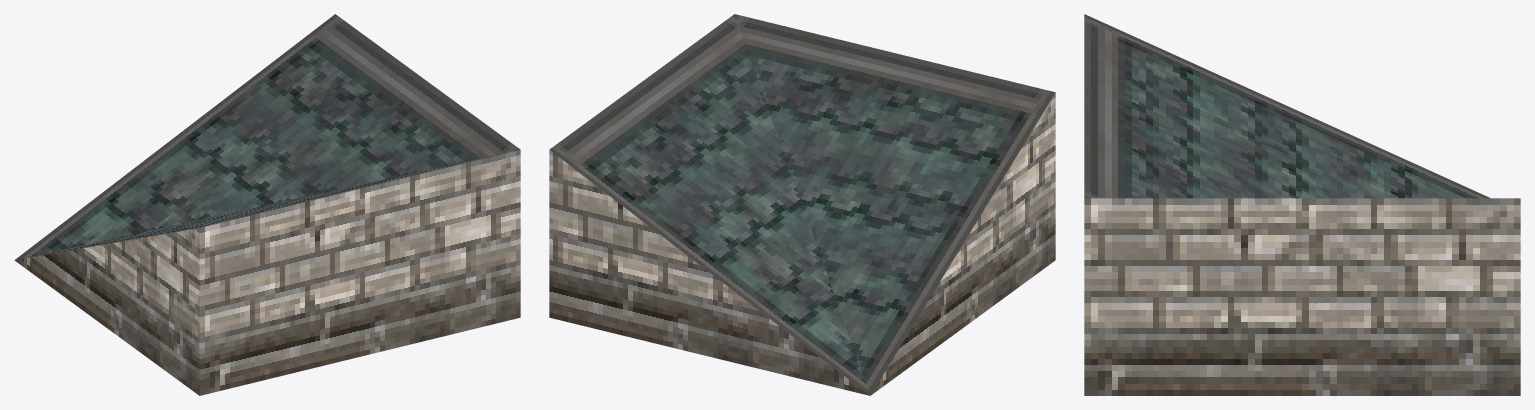
Rendered from roof-side-corner-inner_lev3.glb.
3 renders of one model, left to right at view 1: azimuth 30°, elevation 25°; view 2: azimuth 150°, elevation 25°; view 3: azimuth 270°, elevation 25°, orthographic. The views are drawn at different scales.
Parts seen in each view (by area): view 1: roof-side-corner-inner_lev3; view 2: roof-side-corner-inner_lev3; view 3: roof-side-corner-inner_lev3.
Boxes of the visible parts, <box> form: roof-side-corner-inner_lev3: <box>14,14,520,395</box>; roof-side-corner-inner_lev3: <box>549,14,1055,395</box>; roof-side-corner-inner_lev3: <box>1084,14,1520,395</box>.
Size of the model in its own units: 8 by 4 by 8.
3 materials, 3 textured.
